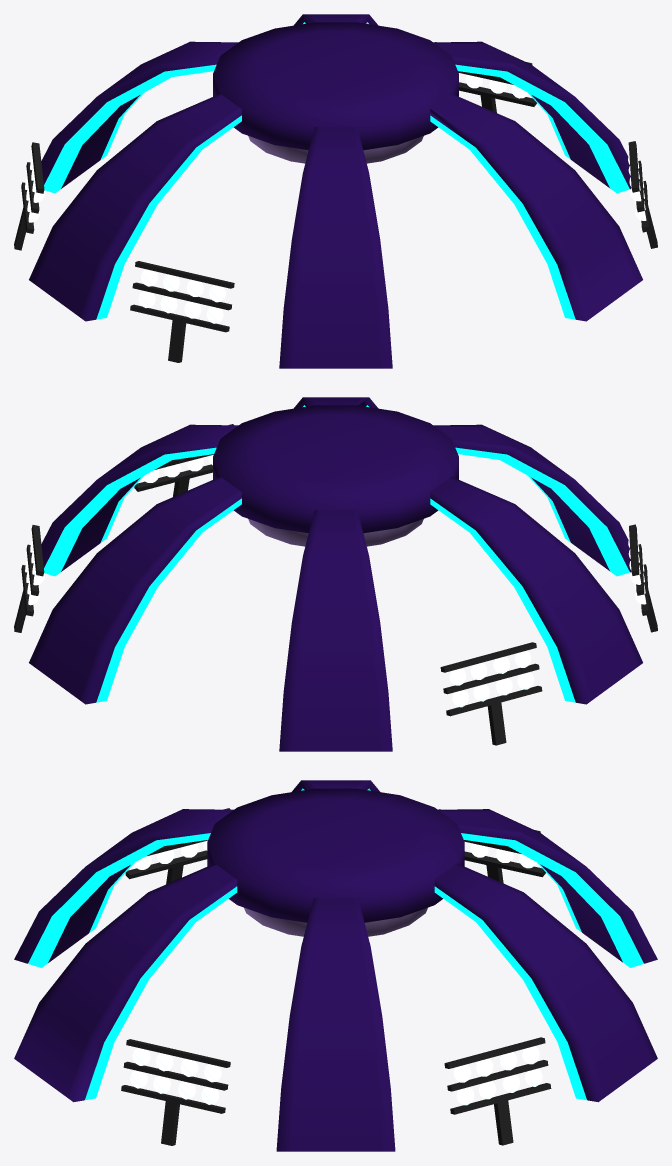
File: Cupula (3).fbx
The picture shows the model from 3 angles, top to bottom: view 1: azimuth 30°, elevation 25°; view 2: azimuth 150°, elevation 25°; view 3: azimuth 270°, elevation 25°; orthographic projection. The views are drawn at different scales.
Visible parts, largest first — view 1: Techo; view 2: Techo; view 3: Techo.
Boxes of the visible parts, bbox=[...] form: Techo: bbox=[14, 14, 657, 368]; Techo: bbox=[14, 397, 657, 751]; Techo: bbox=[14, 780, 657, 1151].
Bounding box in the file's own units: 36646 × 11341 × 34968.
